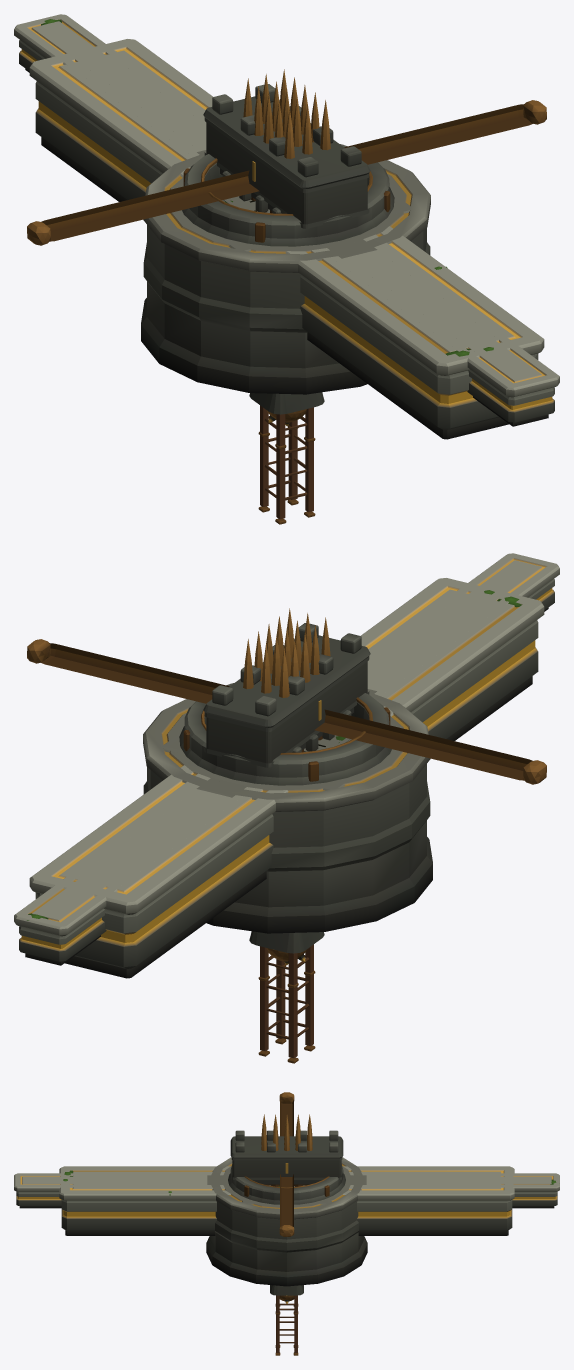
Rendered from temple-1-C06wPlqQ.glb.
3 renders of one model, top to bottom at view 1: azimuth 30°, elevation 25°; view 2: azimuth 150°, elevation 25°; view 3: azimuth 270°, elevation 25°, orthographic. The views are drawn at different scales.
Visible parts, largest first — view 1: block_6x2x40#0, disc_14x1.5#0, block_3x2x48#0, spout_2x8#0, mount_13.8#0, geyserVent_8#0, truss_16#0, spikes_3x6x5#0, support_1_square#0; view 2: block_6x2x40#0, disc_14x1.5#0, block_3x2x48#0, spout_2x8#0, mount_13.8#0, geyserVent_8#0, truss_16#0, spikes_3x6x5#0, support_1_square#0; view 3: block_6x2x40#0, disc_14x1.5#0, block_3x2x48#0, spout_2x8#0, geyserVent_8#0, mount_13.8#0, spikes_3x6x5#0, truss_16#0, support_1_square#0.
Part boxes in pixels (box(x1,y1,x2,y2)): block_6x2x40#0: box(29, 39, 544, 439); disc_14x1.5#0: box(141, 152, 430, 394); block_3x2x48#0: box(14, 14, 559, 426); spout_2x8#0: box(203, 84, 370, 228); mount_13.8#0: box(27, 100, 546, 245); geyserVent_8#0: box(182, 144, 394, 246); truss_16#0: box(258, 405, 315, 524); spikes_3x6x5#0: box(243, 69, 330, 213); support_1_square#0: box(249, 392, 324, 414); block_6x2x40#0: box(29, 578, 544, 978); disc_14x1.5#0: box(143, 691, 432, 933); block_3x2x48#0: box(14, 553, 559, 965); spout_2x8#0: box(203, 623, 370, 767); mount_13.8#0: box(27, 639, 546, 784); geyserVent_8#0: box(179, 683, 391, 785); truss_16#0: box(258, 944, 315, 1063); spikes_3x6x5#0: box(243, 608, 330, 752); support_1_square#0: box(249, 931, 324, 953); block_6x2x40#0: box(59, 1166, 514, 1235); disc_14x1.5#0: box(206, 1157, 367, 1286); block_3x2x48#0: box(14, 1173, 559, 1208); spout_2x8#0: box(230, 1130, 343, 1185); geyserVent_8#0: box(228, 1164, 345, 1204); mount_13.8#0: box(279, 1092, 294, 1236); spikes_3x6x5#0: box(261, 1114, 312, 1186); truss_16#0: box(275, 1295, 298, 1355); support_1_square#0: box(270, 1285, 303, 1295).
Size of the model in its own units: 28.5 by 22.58 by 48.
